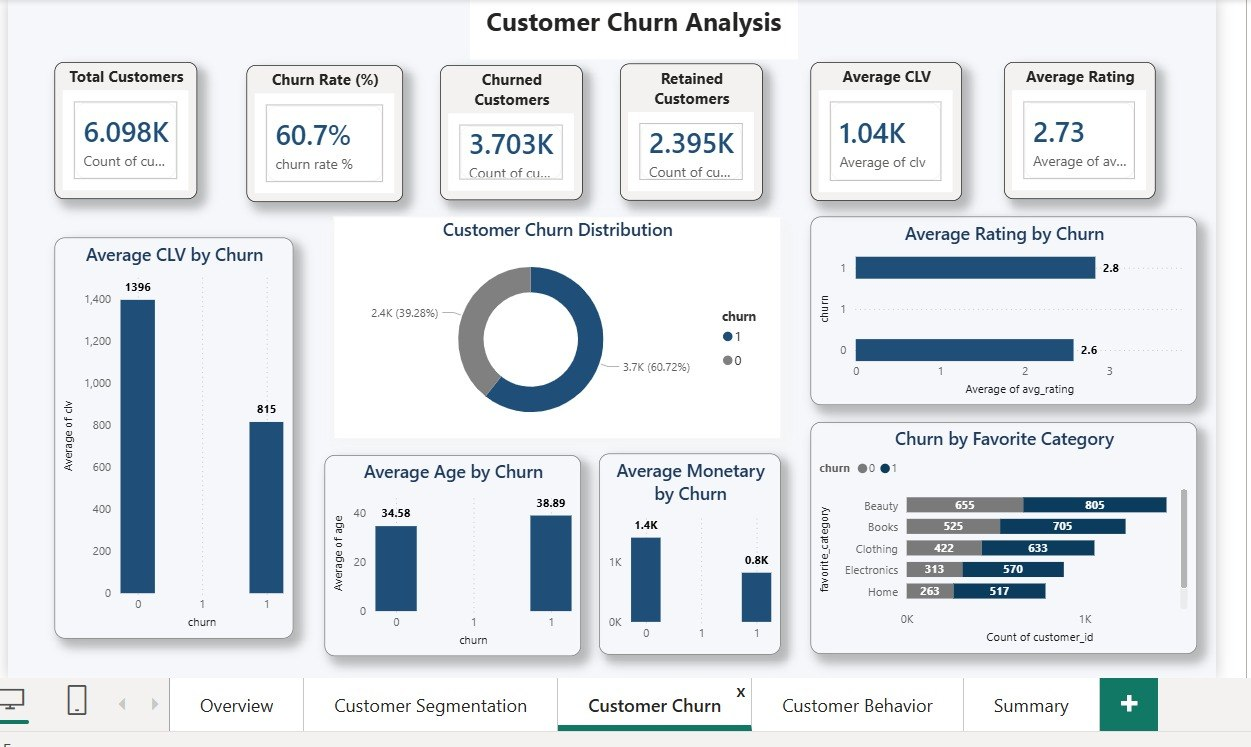

This screenshot's page, from the dashboard's own definition file:
{"tool":"powerbi","page":{"name":"Customer Churn","canvas":[1280,720],"ordinal":2},"visuals":[{"type":"cardVisual","title":"Total Customers","fields":{"Data":["Count(customer_segmentation.customer_id)"]},"box":[49.1,66.1,151.2,145.5],"z":0},{"type":"cardVisual","title":"Churn Rate (%)","fields":{"Data":["customer_churn.churn rate %"]},"box":[253.2,69.9,166.3,145.5],"z":1000},{"type":"cardVisual","title":"Churned Customers","fields":{"Data":["Count(customer_churn.customer_id)"]},"box":[457.3,69.9,151.2,143.6],"z":2000},{"type":"cardVisual","title":"Retained Customers","fields":{"Data":["Count(customer_churn.customer_id)"]},"box":[648.2,68,151.2,145.5],"z":3000},{"type":"cardVisual","title":"Average CLV","fields":{"Data":["Avg(customer_lifetime.clv)"]},"box":[850.4,66.1,160.6,147.4],"z":4000},{"type":"cardVisual","title":"Average Rating","fields":{"Data":["Avg(customer_behavior.avg_rating)"]},"box":[1056.4,66.1,160.6,145.5],"z":5000},{"type":"donutChart","title":"Customer Churn Distribution","fields":{"Category":["customer_churn.churn"],"Y":["CountNonNull(customer_churn.customer_id)"]},"box":[345.8,230.6,474.3,236.2],"z":6000},{"type":"barChart","title":"Churn by Favorite Category","fields":{"Category":["customer_behavior.favorite_category"],"Y":["Count(customer_behavior.customer_id)"],"Series":["customer_churn.churn"]},"box":[850.4,447.9,410.1,245.7],"z":7000},{"type":"clusteredColumnChart","title":"Average CLV by Churn","fields":{"Y":["Avg(customer_lifetime.clv)"],"Category":["customer_churn.churn"]},"box":[49.1,253.2,253.2,425.2],"z":8000},{"type":"clusteredBarChart","title":"Average Rating by Churn","fields":{"Category":["customer_churn.churn"],"Y":["Avg(customer_behavior.avg_rating)"]},"box":[850.4,230.6,410.1,200.3],"z":9000},{"type":"clusteredColumnChart","title":"Average Age by Churn","fields":{"Y":["Avg(customer_churn.age)"],"Category":["customer_churn.churn"]},"box":[336.4,483.8,272.1,213.5],"z":10000},{"type":"clusteredColumnChart","title":"Average Monetary by Churn","fields":{"Y":["Avg(customer_churn.monetary)"],"Category":["customer_churn.churn"]},"box":[627.4,481.9,192.8,213.5],"z":11000},{"type":"textbox","box":[489.5,0,347.7,64.3],"z":12000}]}

Visuals, with their boxes on the page's 1280x720 design canvas (x1, y1, x2, y2). These are canvas units, not pixel positions in the 1251x747 screenshot, which may show the page scaled, cropped or inside an application window:
"Total Customers" cardVisual: <box>49,66,200,212</box>
"Churn Rate (%)" cardVisual: <box>253,70,420,215</box>
"Churned Customers" cardVisual: <box>457,70,608,214</box>
"Retained Customers" cardVisual: <box>648,68,799,214</box>
"Average CLV" cardVisual: <box>850,66,1011,214</box>
"Average Rating" cardVisual: <box>1056,66,1217,212</box>
"Customer Churn Distribution" donutChart: <box>346,231,820,467</box>
"Churn by Favorite Category" barChart: <box>850,448,1260,694</box>
"Average CLV by Churn" clusteredColumnChart: <box>49,253,302,678</box>
"Average Rating by Churn" clusteredBarChart: <box>850,231,1260,431</box>
"Average Age by Churn" clusteredColumnChart: <box>336,484,608,697</box>
"Average Monetary by Churn" clusteredColumnChart: <box>627,482,820,695</box>
textbox: <box>490,0,837,64</box>
